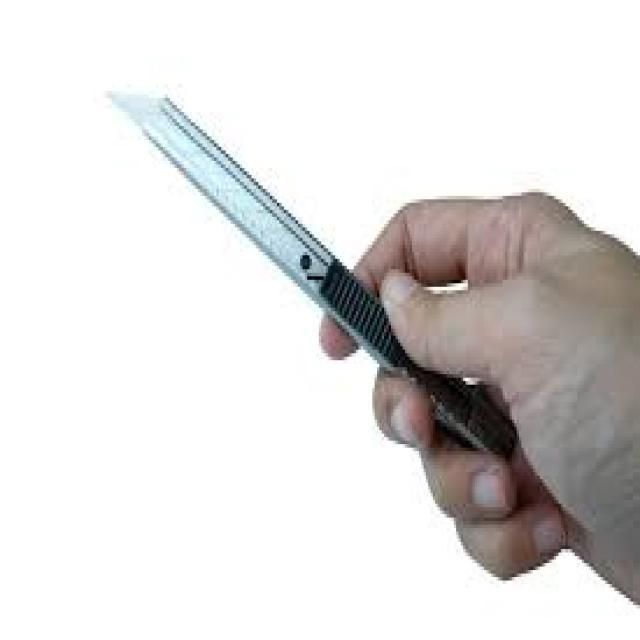cutter: (100, 85, 526, 482)
